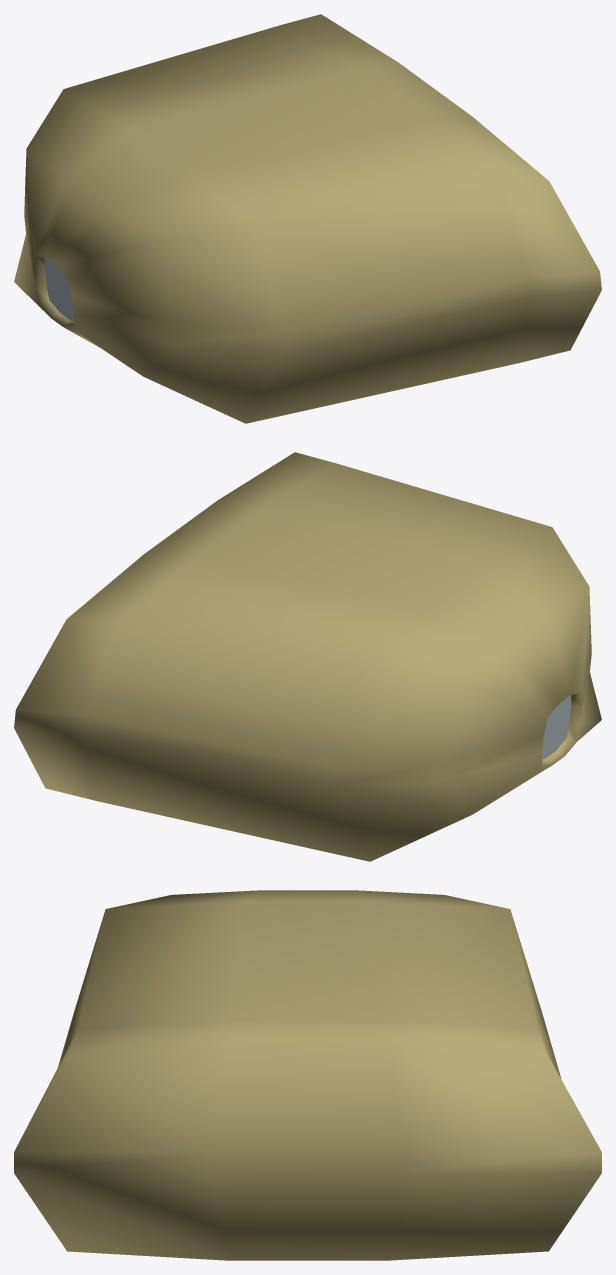
File: MDL_LaundryBag.fbx
The picture shows the model from 3 angles, top to bottom: view 1: azimuth 30°, elevation 25°; view 2: azimuth 150°, elevation 25°; view 3: azimuth 270°, elevation 25°; orthographic projection. The views are drawn at different scales.
Parts seen in each view (by area): view 1: Plane; view 2: Plane; view 3: Plane.
Part boxes in pixels (x1,y1,x2,y2): Plane: (14, 14, 601, 423); Plane: (14, 452, 601, 861); Plane: (14, 890, 601, 1260).
Bounding box in the file's own units: 106 × 50.55 × 125.
Materials: 1 (1 with a texture image).
